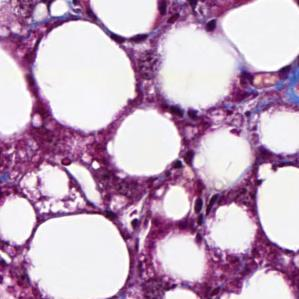inflammation: (189, 189, 224, 232), (106, 207, 151, 234), (160, 99, 202, 121)
